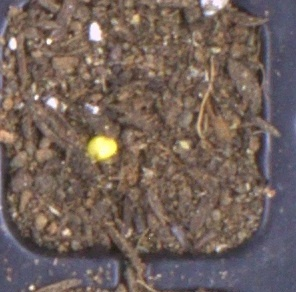chilli seed: (86, 135, 118, 164)
